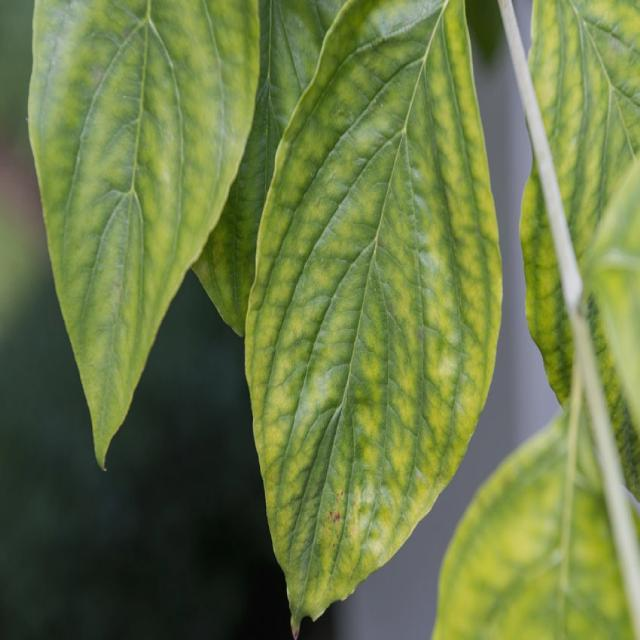Chlorosis: (3, 0, 628, 629)
